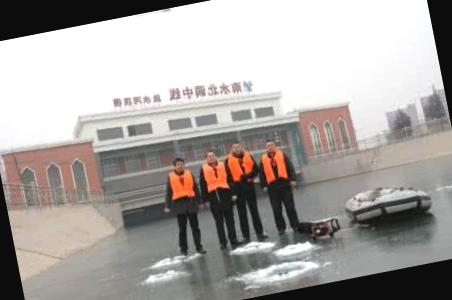no_helmet: (228, 136, 245, 159), (170, 154, 188, 173), (262, 136, 278, 156), (204, 149, 220, 166)
